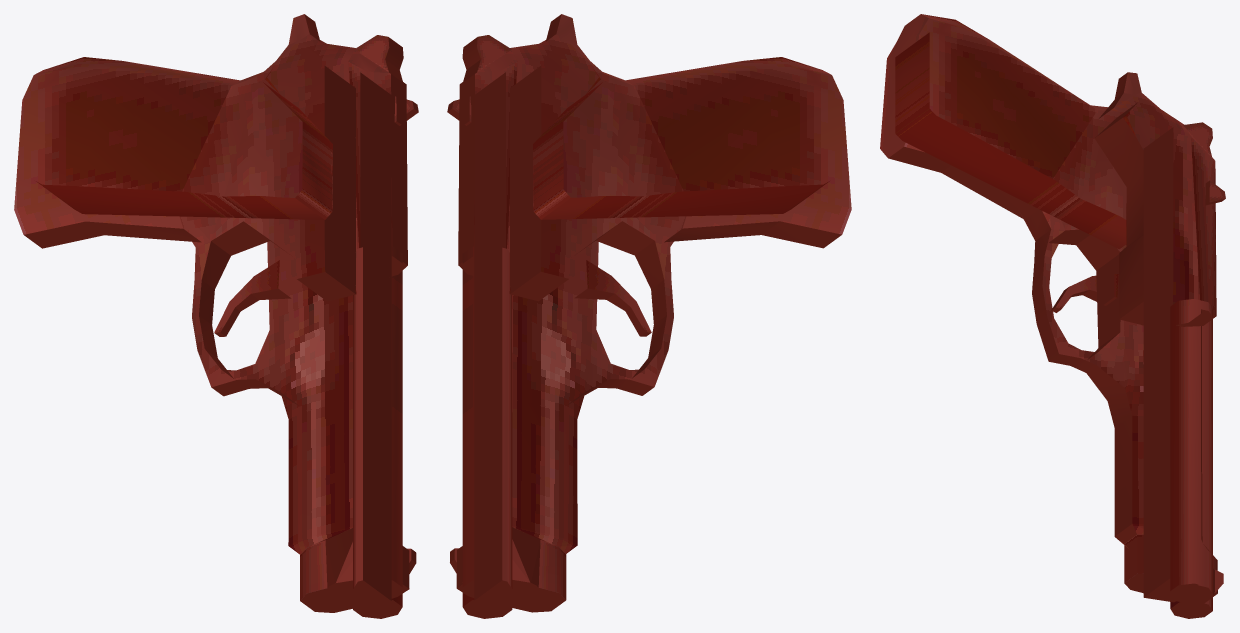
The model's file is ps2_save-icons_thesopranosroadtorespect.glb.
3 renders of one model, left to right at view 1: azimuth 30°, elevation 25°; view 2: azimuth 150°, elevation 25°; view 3: azimuth 330°, elevation 25°, orthographic. The views are drawn at different scales.
Visible parts, largest first — view 1: 7logo.ico; view 2: 7logo.ico; view 3: 7logo.ico.
Part boxes in pixels (x1,y1,x2,y2): 7logo.ico: (14, 14, 418, 618); 7logo.ico: (447, 14, 851, 618); 7logo.ico: (880, 14, 1225, 618).
Bounding box in the file's own units: 3.2 × 4.9 × 0.6975.
Materials: 1 (1 with a texture image).
